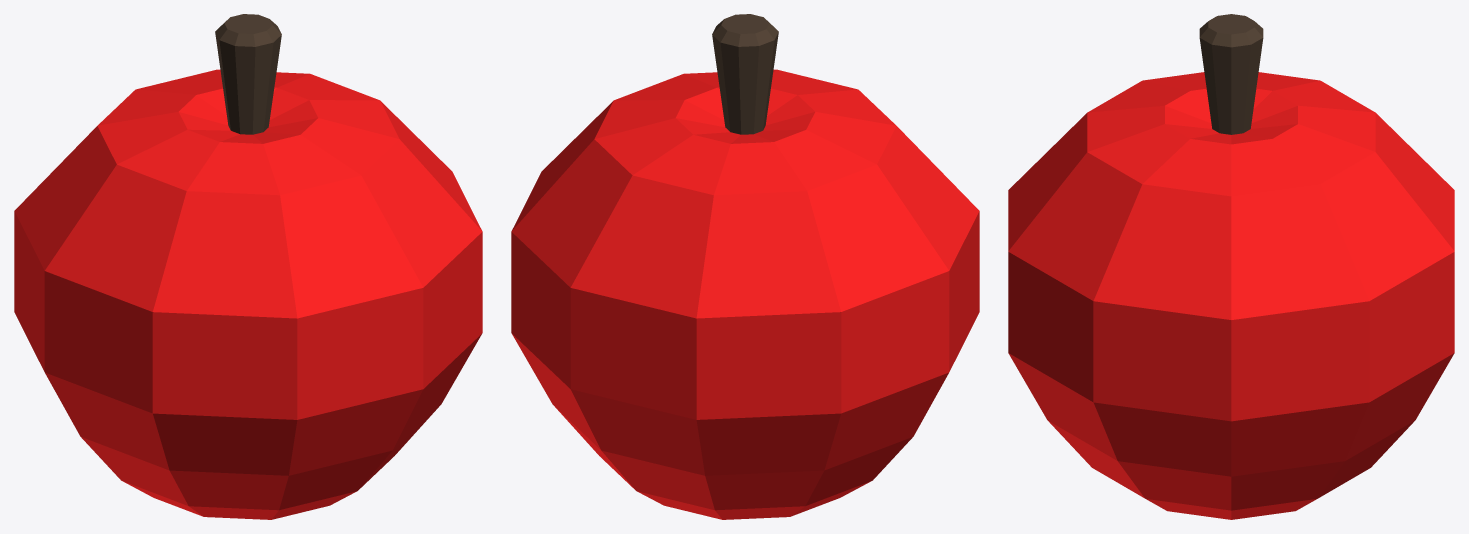
Rendered from apple1.gltf.
3 views of the same model, side by side, from view 1: azimuth 30°, elevation 25°; view 2: azimuth 150°, elevation 25°; view 3: azimuth 270°, elevation 25° (orthographic).
Parts seen in each view (by area): view 1: model1.325, model1.324; view 2: model1.325, model1.324; view 3: model1.325, model1.324.
Boxes of the visible parts, x1,y1,x2,y2 form: model1.325: [14, 69, 482, 519]; model1.324: [215, 14, 281, 134]; model1.325: [511, 69, 979, 519]; model1.324: [712, 14, 778, 134]; model1.325: [1008, 72, 1454, 519]; model1.324: [1199, 14, 1263, 134].
Bounding box in the file's own units: 2.05 × 2.19 × 1.95.
